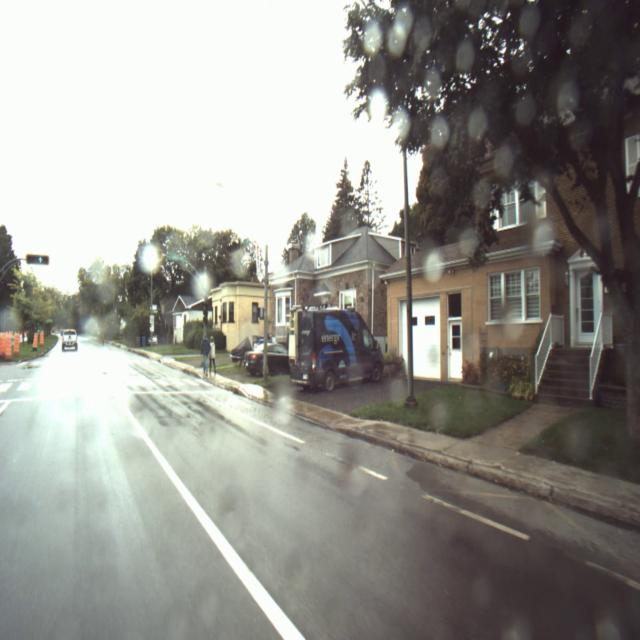car: (246, 343, 290, 376), (62, 329, 77, 351)
pedestrian: (209, 336, 219, 376), (201, 334, 210, 376)
trafficLight-Green: (36, 255, 46, 264)
